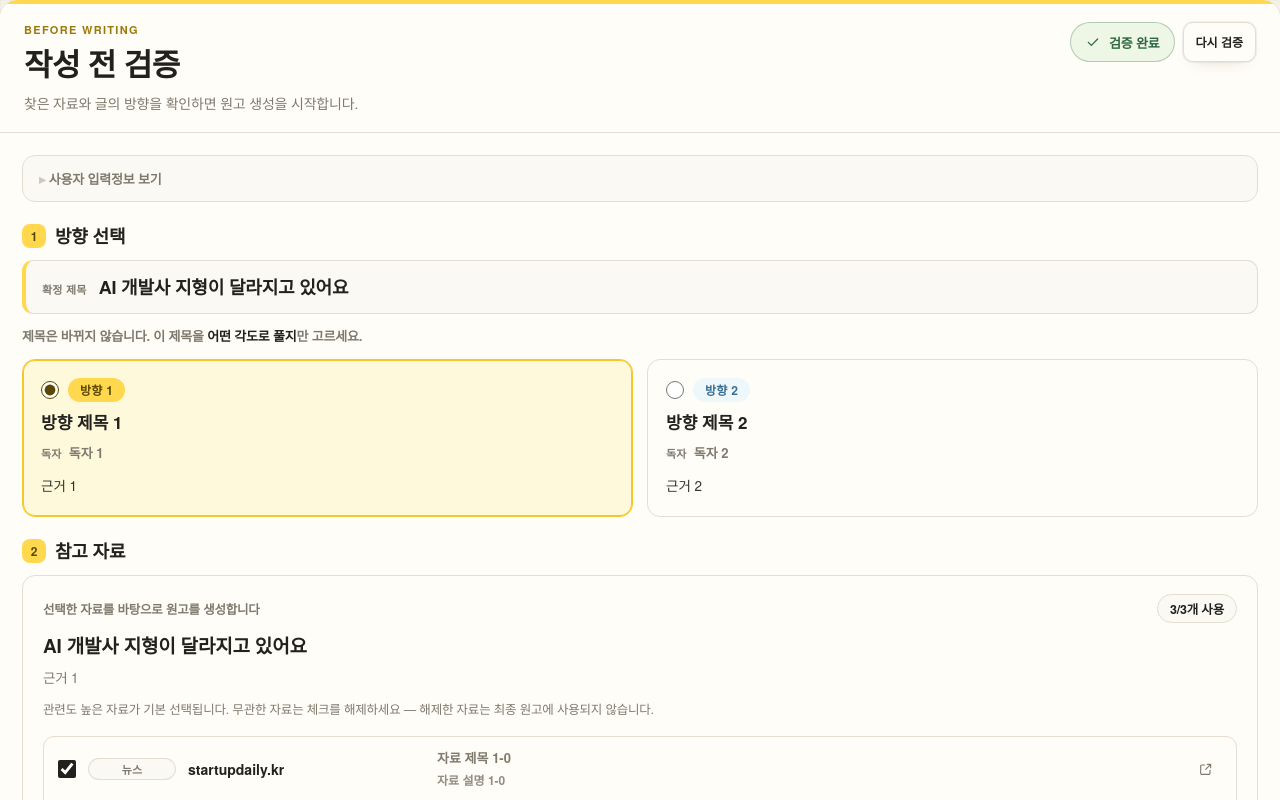
StepVerify 작성 전 검증 › 다른 방향을 고르면 그 방향의 자료로 바뀐다
Click the 2nd radio button at (675, 390), box [666, 380, 684, 398]
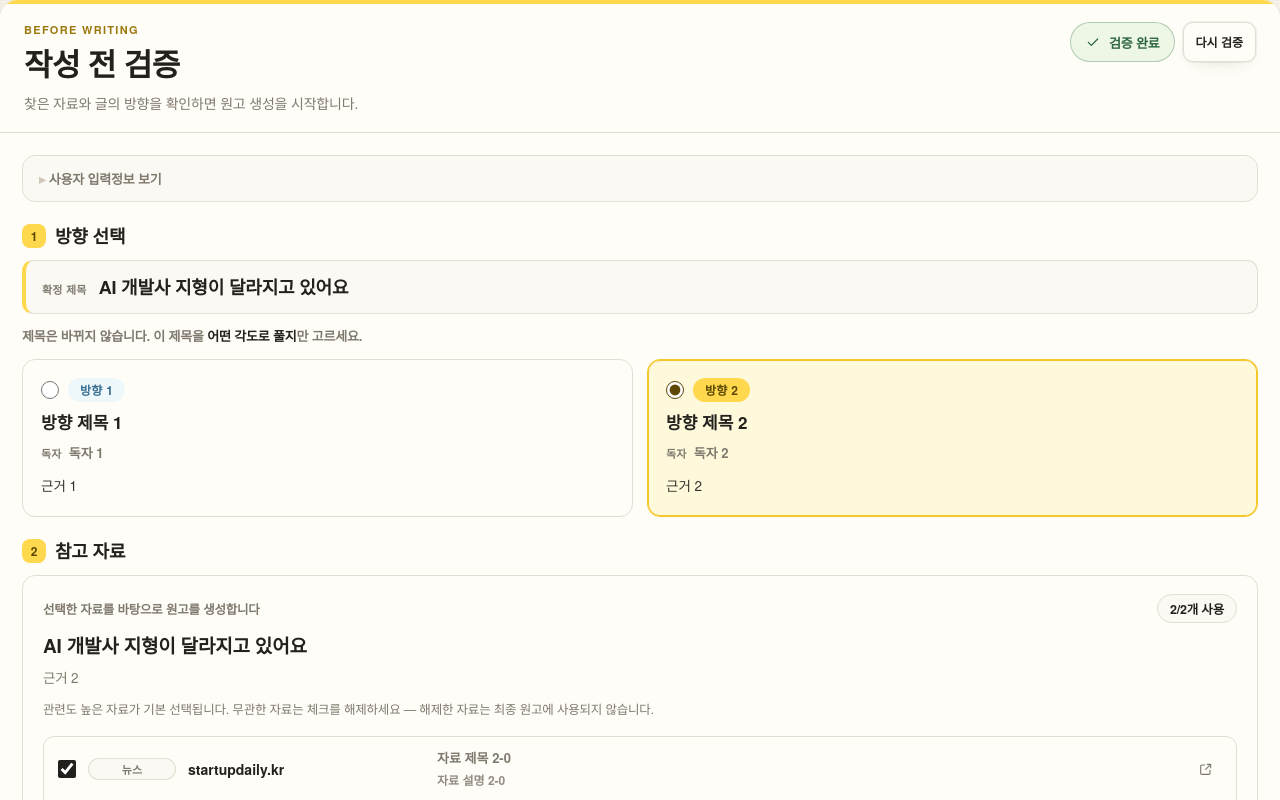
Expected: the 2nd label shows "방향 2", [647, 358, 1258, 517]
Now the number of list items is 2
Now the text "2/2개 사용" is shown, box [1157, 594, 1237, 623]
